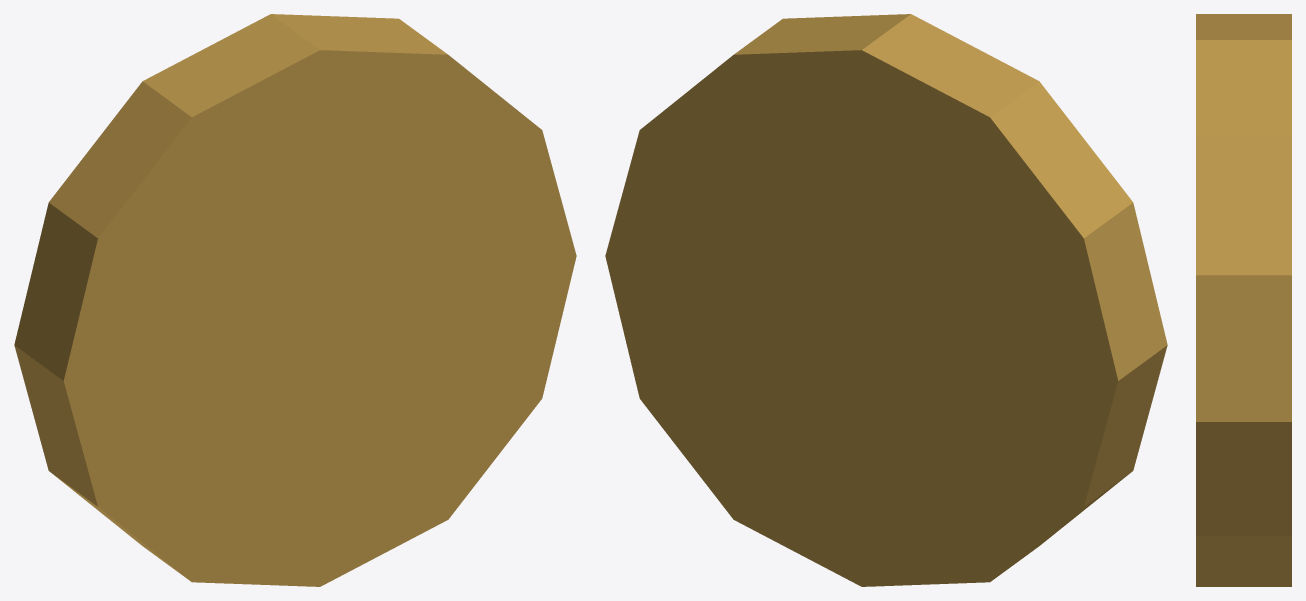
The model's file is objects-coin.lod0.glb.
3 renders of one model, left to right at view 1: azimuth 30°, elevation 25°; view 2: azimuth 150°, elevation 25°; view 3: azimuth 270°, elevation 25°, orthographic. The views are drawn at different scales.
Parts seen in each view (by area): view 1: objects-coin__body; view 2: objects-coin__body; view 3: objects-coin__body.
Boxes of the visible parts, x1,y1,x2,y2 form: objects-coin__body: (14, 14, 576, 586); objects-coin__body: (605, 14, 1167, 586); objects-coin__body: (1196, 14, 1291, 586).
Bounding box in the file's own units: 0.48 × 0.48 × 0.08.
